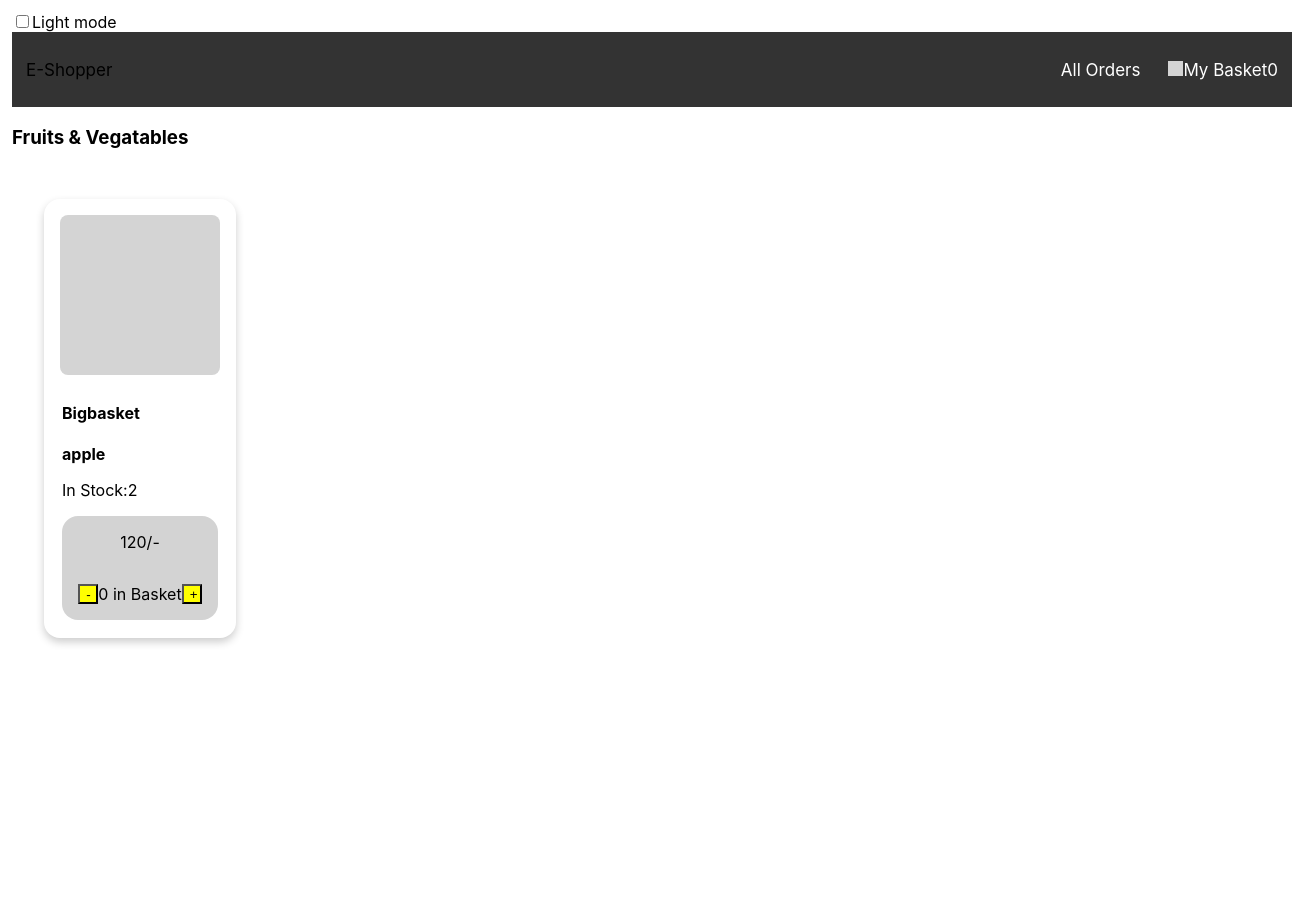
Test: App › should render all order page
What coordinates should you click on to do the following:
click the link "All Orders"
I would click on:
 (1101, 70)
Its box is 1061,60 -> 1140,80.
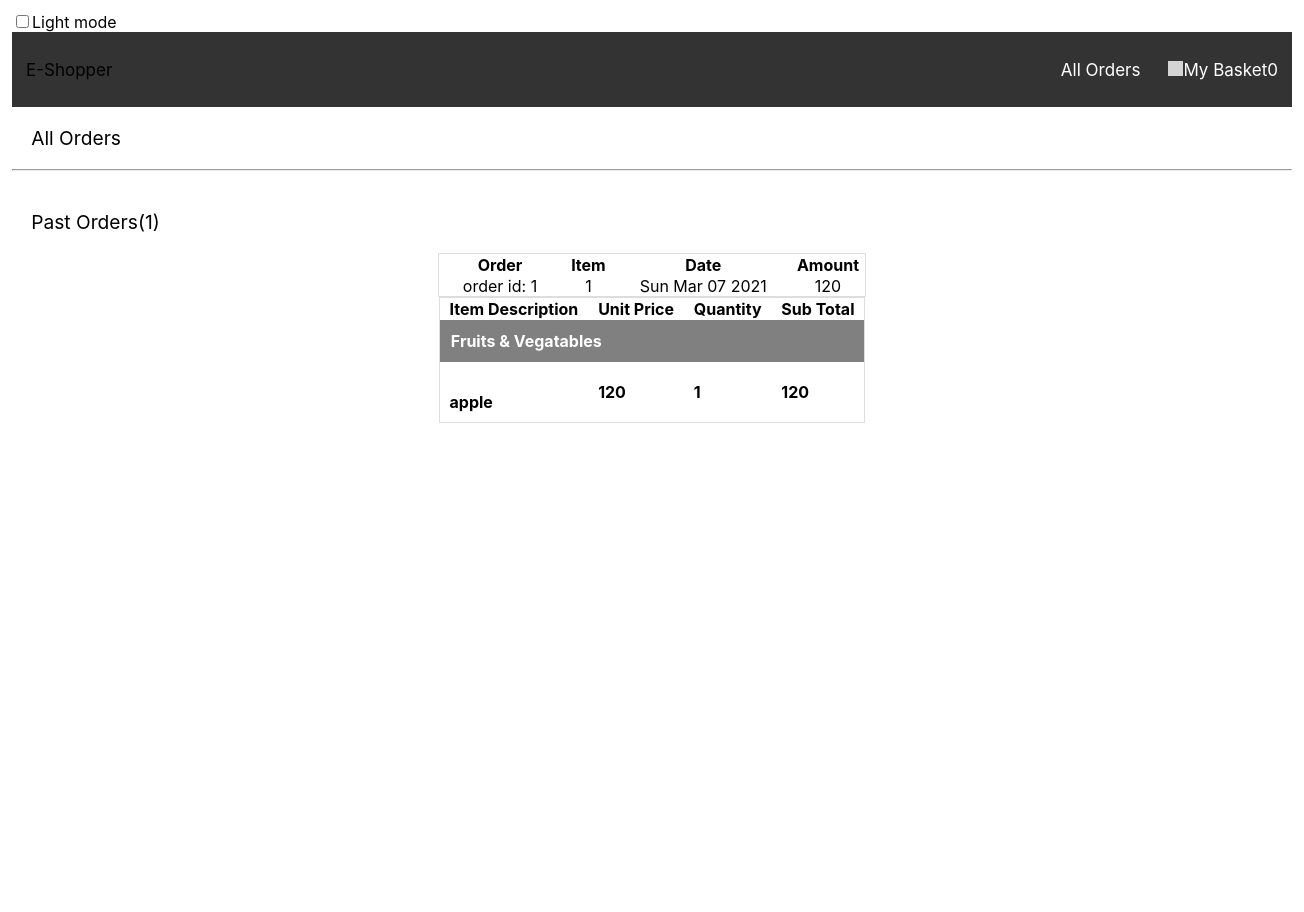
Now the element with test id "All-Order" is shown, box 12,126 -> 1292,438
